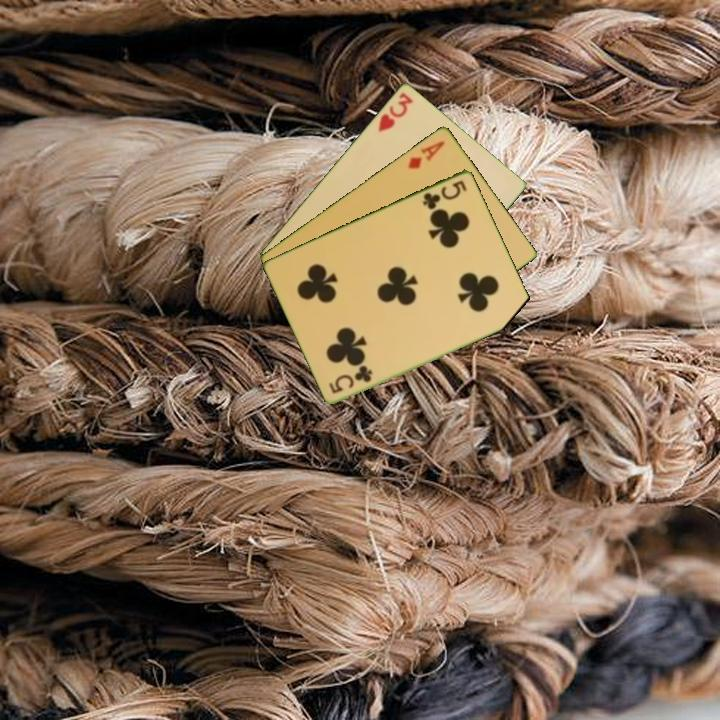3h: (374, 89, 416, 135)
5c: (419, 176, 470, 212), (326, 363, 376, 396)
Ad: (404, 137, 448, 172)
